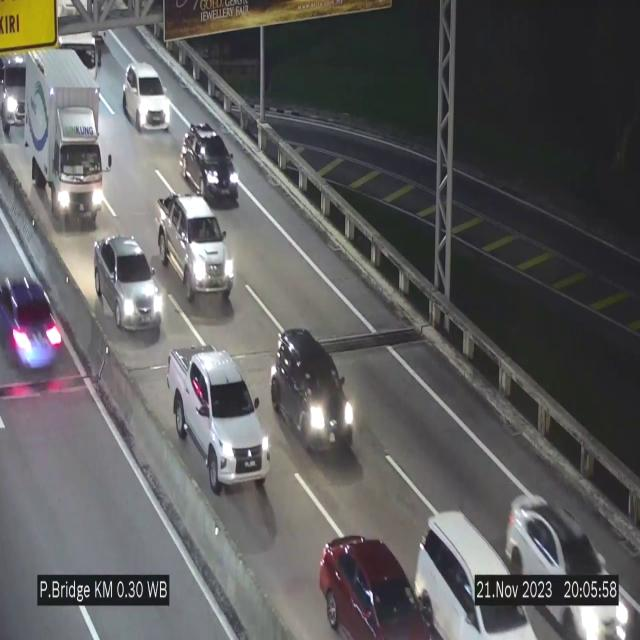Car: (166, 346, 273, 493), (268, 327, 352, 452), (152, 189, 238, 303), (94, 234, 164, 330), (181, 122, 239, 196), (123, 62, 171, 132)
Truck: (20, 45, 114, 225)
